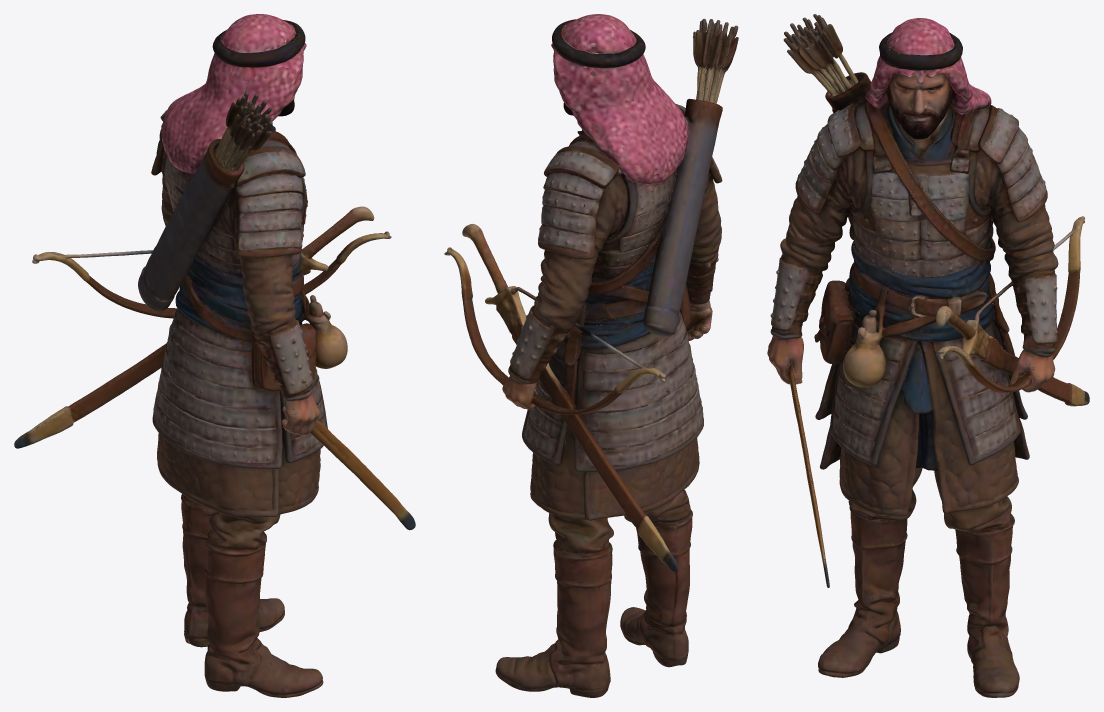
Rendered from archer.glb.
The picture shows the model from 3 angles, left to right: view 1: azimuth 30°, elevation 25°; view 2: azimuth 150°, elevation 25°; view 3: azimuth 270°, elevation 25°; orthographic projection.
Visible parts, largest first — view 1: tripo_node_cc3a76ee-7968-4089-bfd4-1b8143f230cf; view 2: tripo_node_cc3a76ee-7968-4089-bfd4-1b8143f230cf; view 3: tripo_node_cc3a76ee-7968-4089-bfd4-1b8143f230cf.
Part boxes in pixels (box(x1,y1,x2,y2)): tripo_node_cc3a76ee-7968-4089-bfd4-1b8143f230cf: box(14, 14, 415, 697); tripo_node_cc3a76ee-7968-4089-bfd4-1b8143f230cf: box(444, 14, 738, 697); tripo_node_cc3a76ee-7968-4089-bfd4-1b8143f230cf: box(767, 14, 1089, 697).
Size of the model in its own units: 0.4962 by 1 by 0.4484.
Materials: 1 (1 with a texture image).
